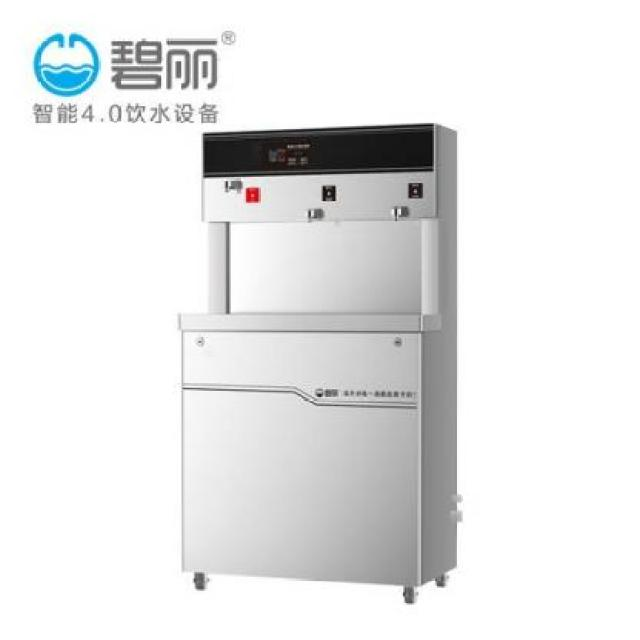cooler: (177, 123, 466, 609)
